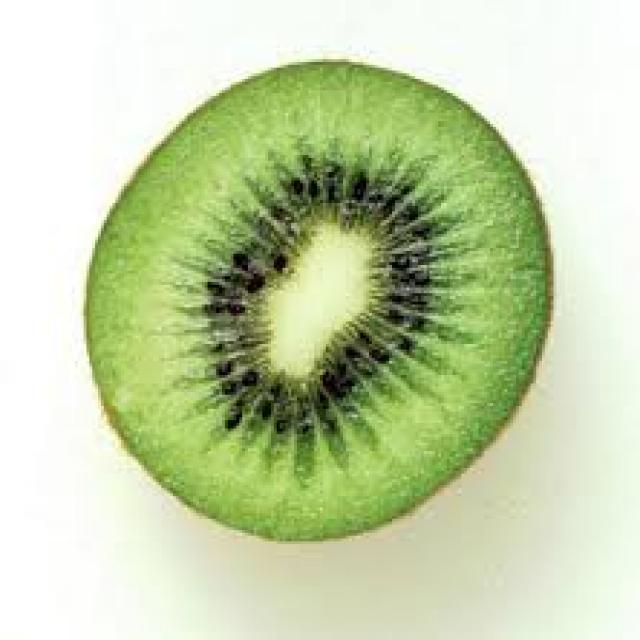organic waste: (80, 56, 550, 542)
